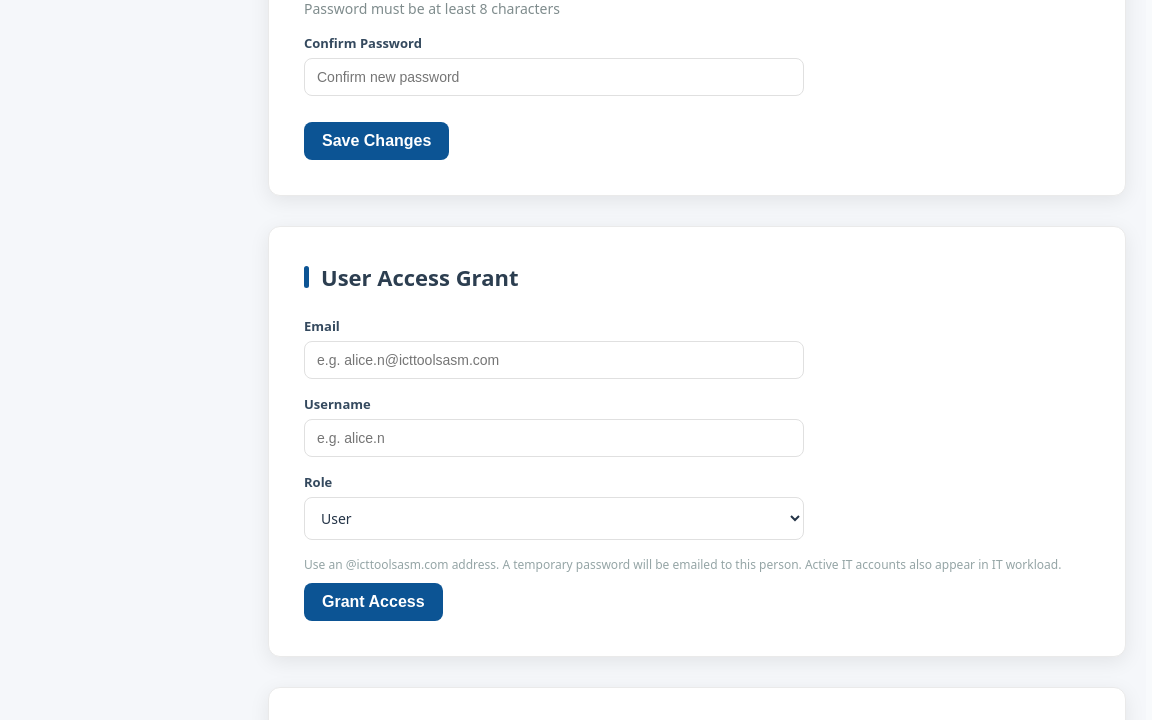
it: shows a failed grant beside its button and keeps the entered person: {"response":{"status":422,"data":{"detail":[{"loc":["body","email"],"msg":"Use organization
(page scrolled)
Type "NEW@ICTTOOLSASM.COM" into the field labelled "Email" at (554, 360), box [304,341,804,379]
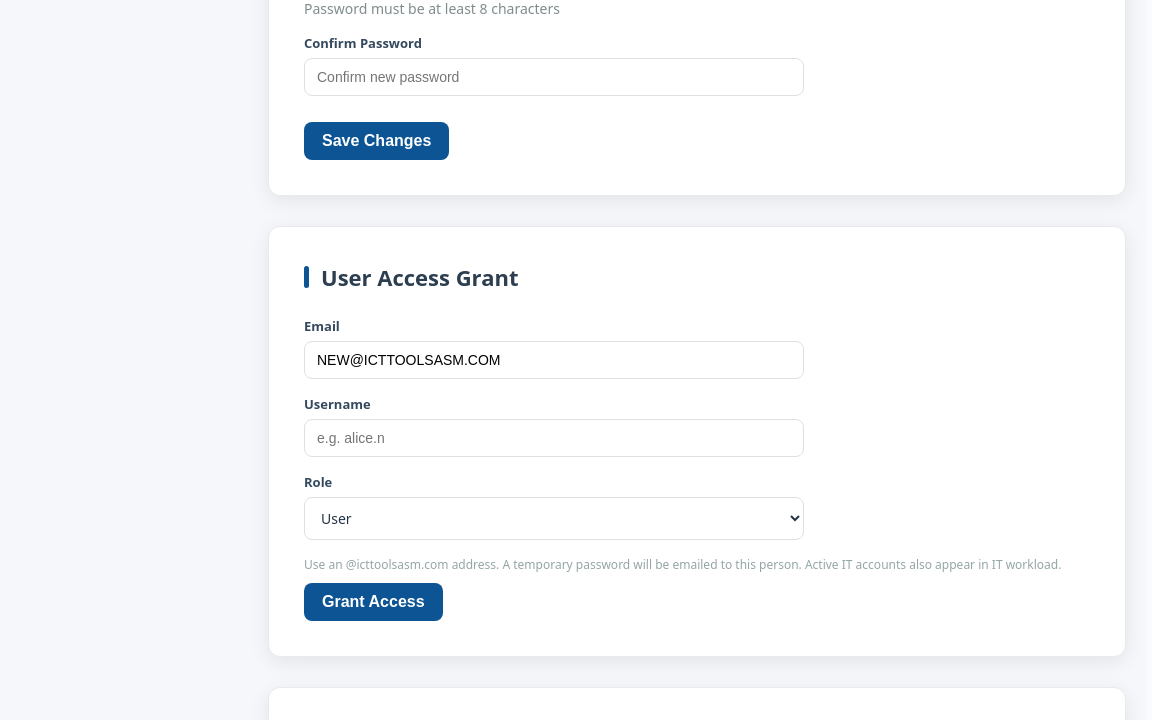
Type " New.Person " into the field labelled "Username" at (554, 438), box [304,419,804,457]
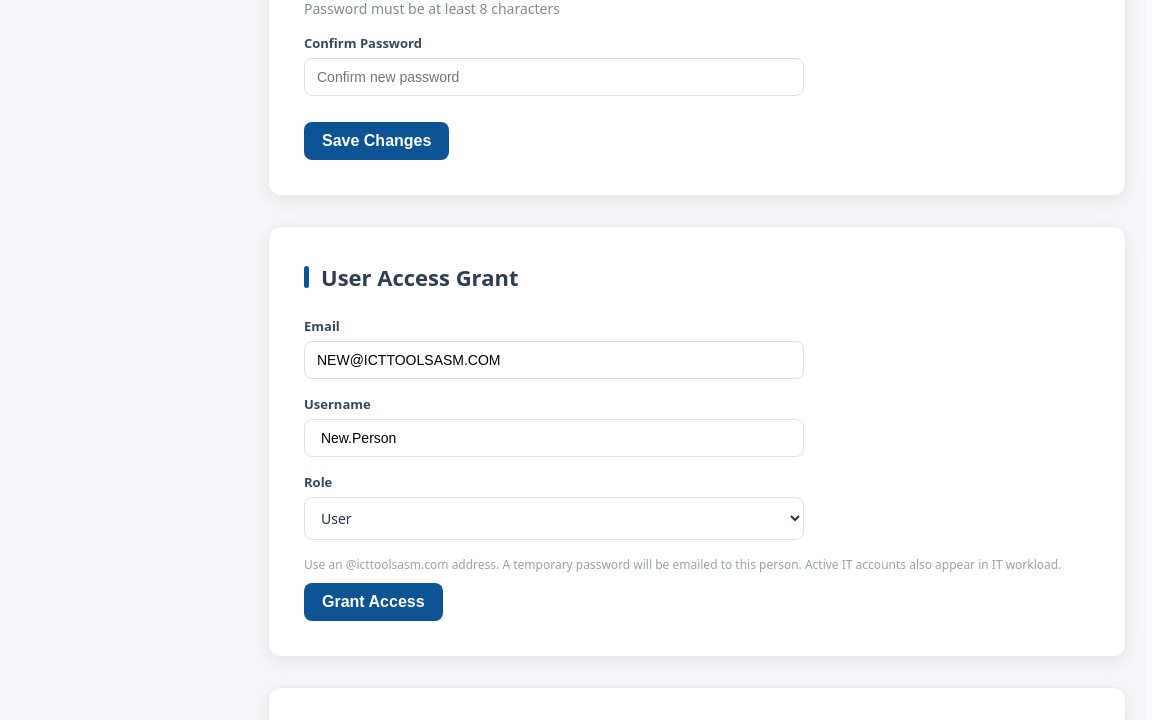
Click the button "Grant Access" at (373, 602), box [304,583,443,621]
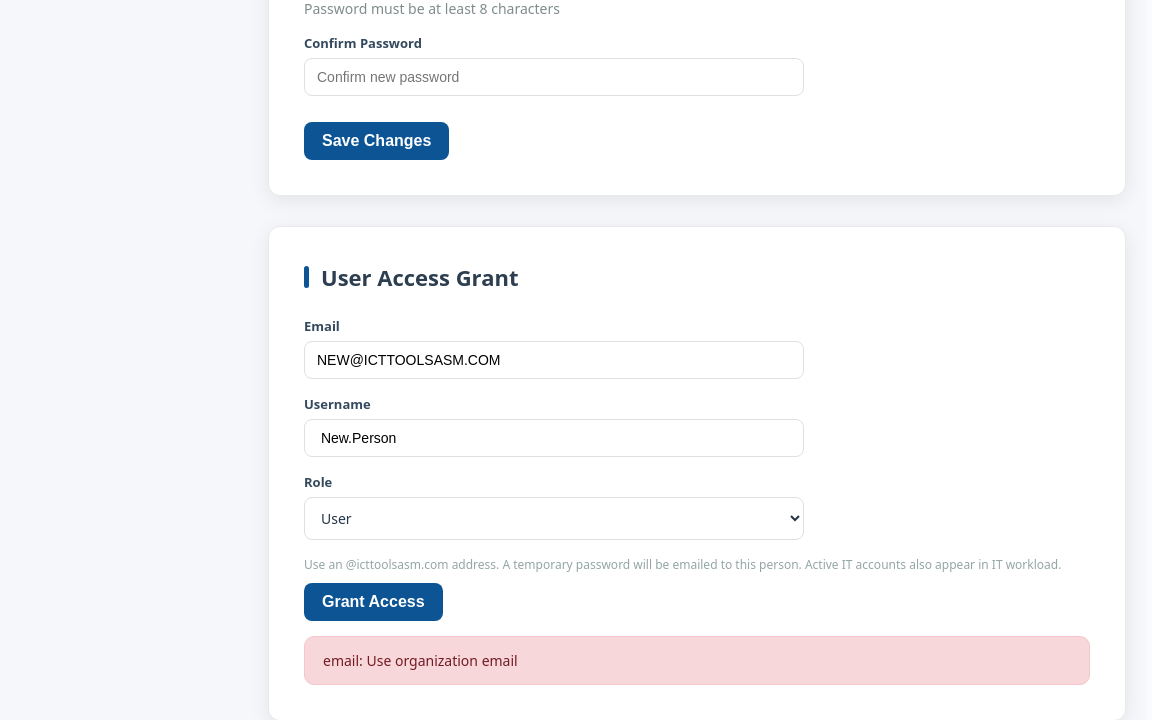
Expected: the message reads "email: Use organization email", [323,651,518,670]
